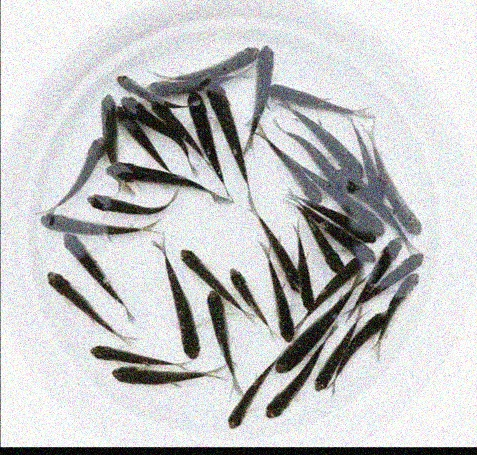fry: (39, 265, 105, 330), (163, 266, 203, 361), (204, 287, 240, 380), (36, 208, 128, 244), (101, 157, 192, 193), (82, 185, 161, 225), (58, 231, 108, 288), (105, 361, 202, 390), (268, 74, 343, 111), (263, 232, 307, 294), (82, 338, 162, 371), (259, 377, 313, 424), (229, 264, 271, 324), (219, 378, 268, 429), (63, 135, 105, 193), (190, 44, 257, 80), (308, 337, 347, 398), (250, 40, 276, 129), (202, 80, 244, 135), (323, 129, 369, 175), (386, 178, 424, 232), (175, 242, 216, 290), (274, 327, 315, 373), (112, 105, 152, 152), (294, 256, 323, 317), (281, 165, 323, 205), (309, 144, 347, 188), (344, 199, 387, 235), (390, 272, 429, 311), (311, 233, 347, 274), (119, 88, 158, 124), (186, 89, 212, 142), (338, 163, 373, 201), (93, 90, 120, 138), (328, 252, 365, 287), (361, 307, 389, 353), (147, 71, 197, 96), (148, 95, 184, 127), (390, 250, 430, 277), (271, 302, 296, 343), (339, 217, 378, 243), (345, 237, 380, 263), (379, 235, 404, 268), (113, 74, 146, 98)
